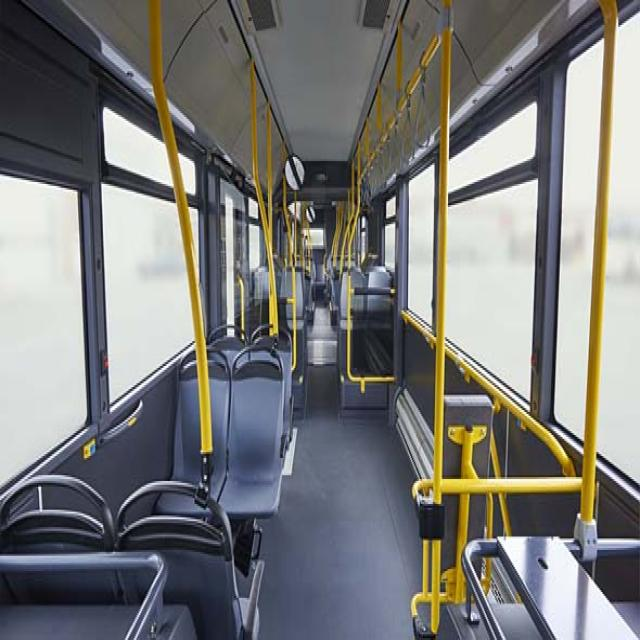empty-seat-frontal: (152, 344, 232, 517), (217, 349, 286, 521)
